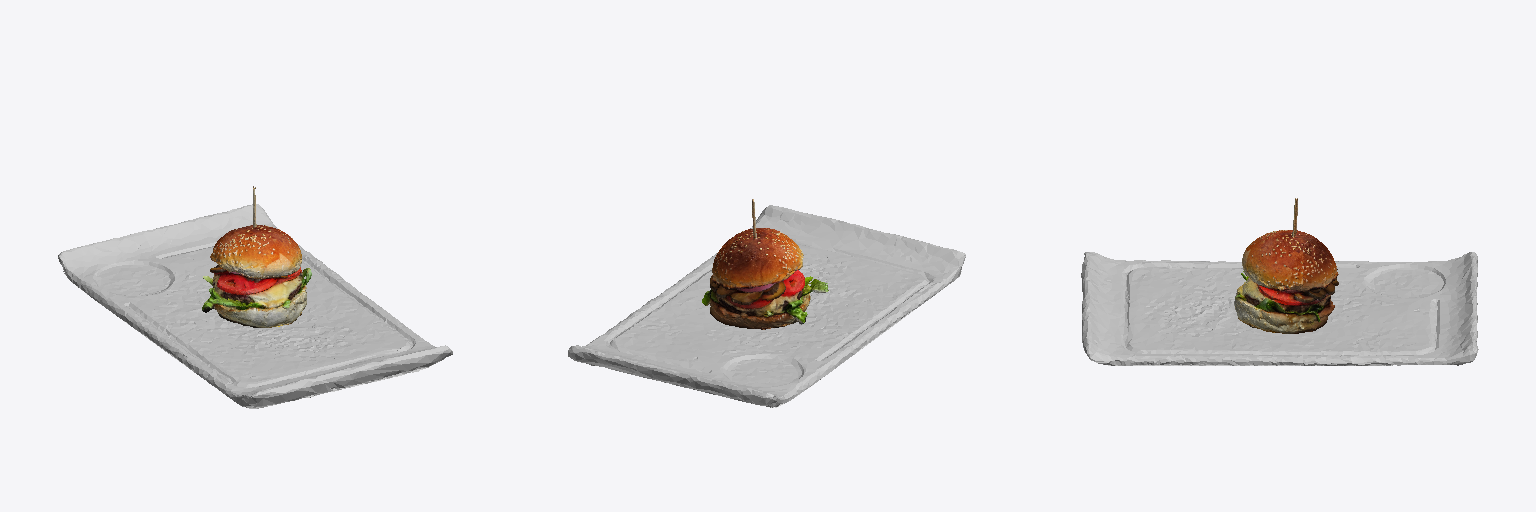
3 views of the same model, side by side, from view 1: azimuth 30°, elevation 25°; view 2: azimuth 150°, elevation 25°; view 3: azimuth 270°, elevation 25° (orthographic).
Visible parts, largest first — view 1: mmGroup0; view 2: mmGroup0; view 3: mmGroup0.
Boxes of the visible parts, x1,y1,x2,y2 form: mmGroup0: [58, 186, 452, 408]; mmGroup0: [568, 199, 965, 407]; mmGroup0: [1081, 198, 1478, 365].
Size of the model in its own units: 0.1827 by 0.1029 by 0.3004.
2 materials, 1 textured.